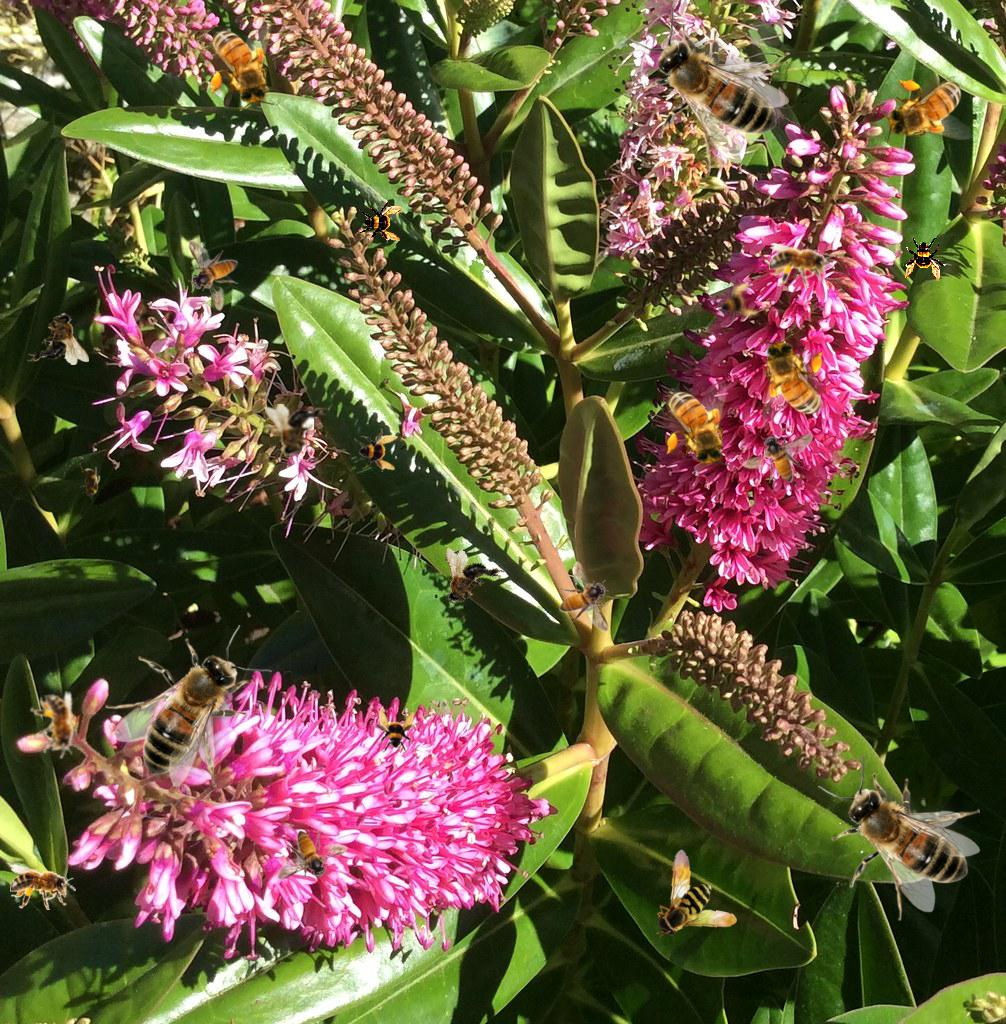Bee: (105, 625, 272, 787), (818, 754, 980, 921), (627, 5, 789, 172), (650, 845, 738, 939), (207, 18, 275, 111), (881, 76, 974, 144), (663, 379, 731, 472), (758, 334, 826, 427), (428, 544, 507, 618), (26, 689, 86, 764), (742, 433, 813, 483), (277, 830, 348, 880), (559, 561, 609, 632), (188, 240, 238, 311), (706, 273, 764, 331), (265, 404, 327, 457), (27, 312, 89, 365), (769, 243, 835, 288), (10, 865, 76, 910), (359, 199, 403, 243), (354, 428, 398, 472), (903, 237, 947, 281), (372, 709, 416, 753), (79, 463, 101, 503)
